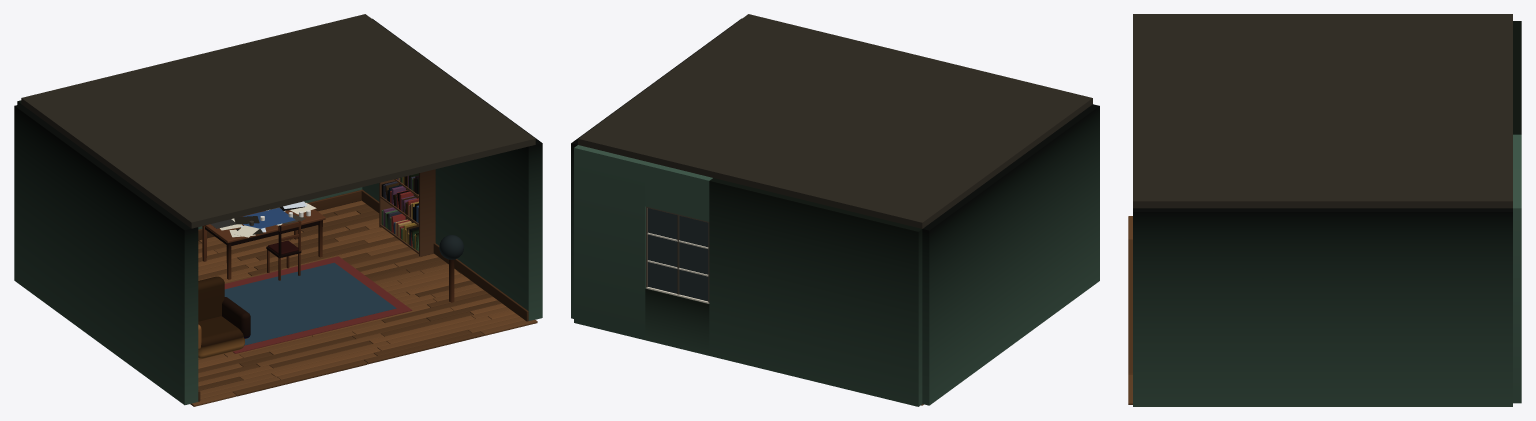
File: study.glb
The picture shows the model from 3 angles, left to right: view 1: azimuth 30°, elevation 25°; view 2: azimuth 150°, elevation 25°; view 3: azimuth 270°, elevation 25°; orthographic projection. The views are drawn at different scales.
Visible parts, largest first — view 1: study.plaster.8, study.plaster.7, study.plank.0, study.plank.1, study.fabric.3, study.fabric.29, study.fabric.2, study.plank.10, study.plank.9, study.plank.18, study.fabric.30, study.plank.27 (+4 smaller); view 2: study.plaster.7, study.plaster.8, study.glass.4, study.paint.5; view 3: study.plaster.7, study.plaster.8, study.plank.1.
Boxes of the visible parts, left/top/right/bottom form: study.plaster.8: left=21, top=14, right=535, bottom=228; study.plaster.7: left=14, top=18, right=542, bottom=405; study.plank.0: left=190, top=200, right=537, bottom=406; study.plank.1: left=198, top=204, right=501, bottom=396; study.fabric.3: left=224, top=262, right=396, bottom=345; study.fabric.29: left=198, top=276, right=244, bottom=358; study.fabric.2: left=224, top=256, right=412, bottom=353; study.plank.10: left=379, top=169, right=435, bottom=256; study.plank.9: left=198, top=189, right=528, bottom=401; study.plank.18: left=202, top=202, right=454, bottom=302; study.fabric.30: left=198, top=297, right=250, bottom=350; study.plank.27: left=266, top=220, right=301, bottom=280; study.plaster.7: left=571, top=18, right=1099, bottom=406; study.plaster.8: left=578, top=14, right=1092, bottom=228; study.glass.4: left=648, top=208, right=708, bottom=301; study.paint.5: left=646, top=206, right=709, bottom=303; study.plaster.7: left=1133, top=21, right=1521, bottom=406; study.plaster.8: left=1133, top=14, right=1512, bottom=208; study.plank.1: left=1128, top=239, right=1132, bottom=374.
Bounding box in the file's own units: 7.28 × 3.56 × 6.22.
